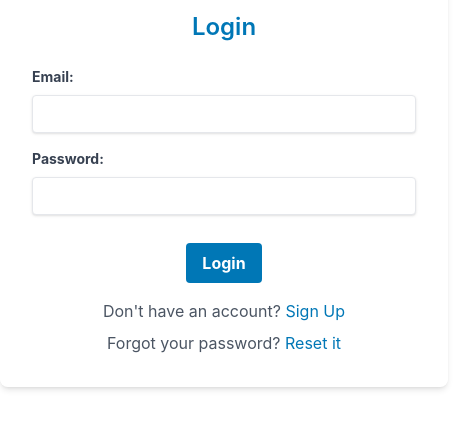
Test: Login › displays generic error when login fails without specific error
The width and height of the screenshot is (465, 444).
Type "test@example.com" into the field labelled "Email:" at (224, 114), box [32,95,416,133]
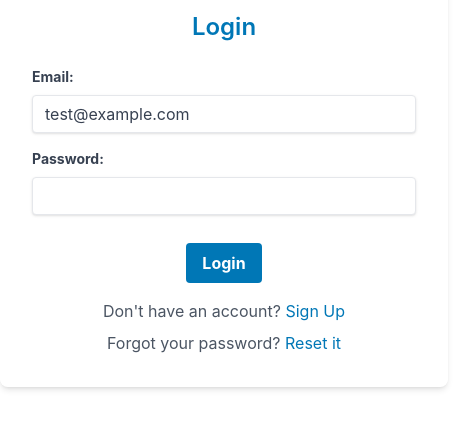
Type "password123" into the password field labelled "Password:" at (224, 196), box [32,177,416,215]
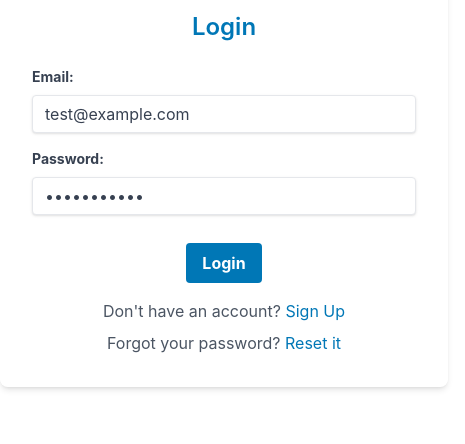
Click the button "Login" at (224, 263), box [186,243,262,283]
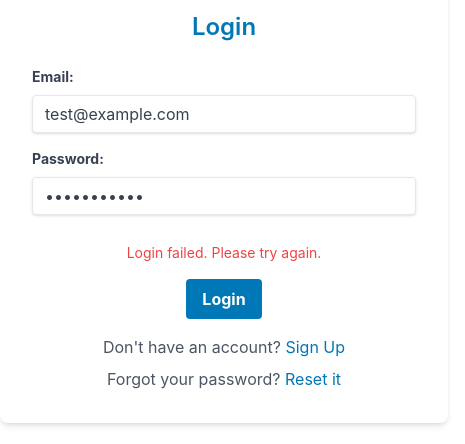
expect the text "Login failed. Please try again." is shown: met, box [127,244,321,261]
